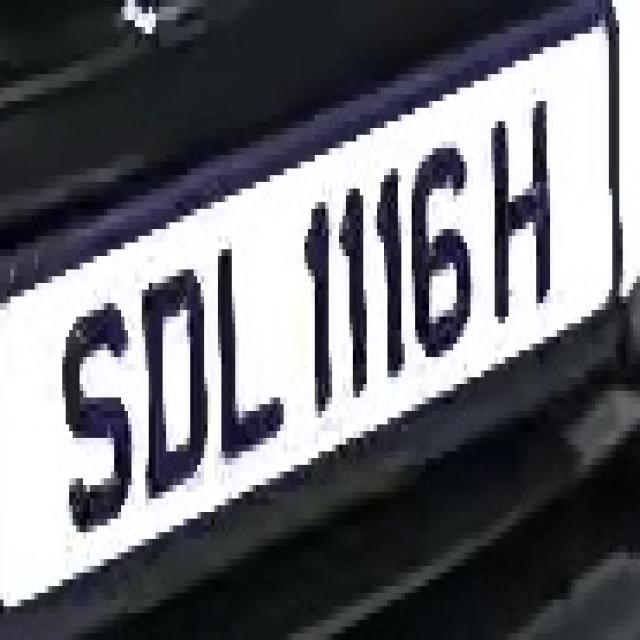1: (294, 162, 339, 438), (370, 155, 412, 404), (336, 162, 374, 431)
6: (408, 121, 474, 371)
D: (128, 249, 214, 499)
H: (481, 81, 557, 350)
L: (208, 243, 287, 472)
S: (52, 296, 149, 552)
